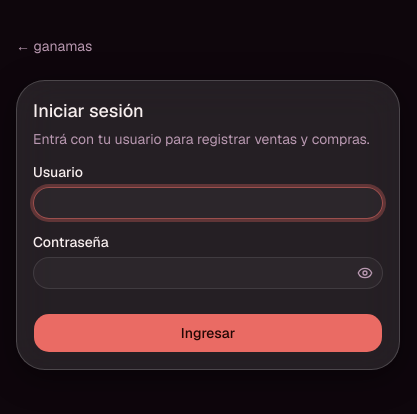
Test: LoginPage › shows an error and does not redirect on invalid credentials
The width and height of the screenshot is (417, 414).
Type "admin" into the field labelled "Usuario" at (208, 203), box [33, 187, 383, 219]
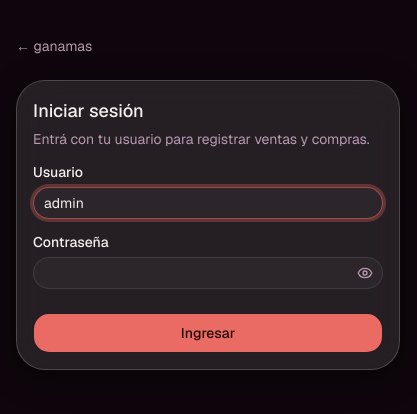
Type "change-me" into the password field labelled "Contraseña" at (208, 273), box [33, 257, 383, 289]
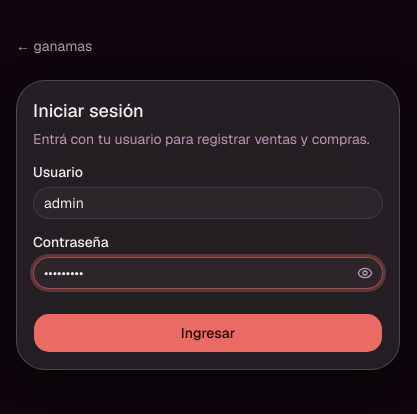
Click the button "Ingresar" at (208, 333), box [33, 313, 383, 353]
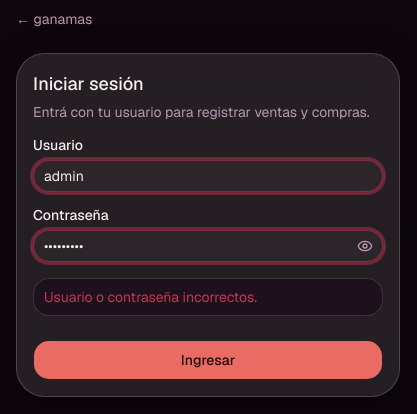
Expected: the text "Usuario o contraseña incorrectos." is shown, [44, 288, 257, 306]
